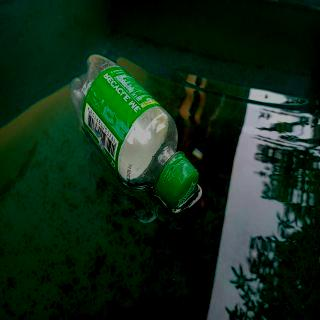bottle: (66, 50, 202, 215)
